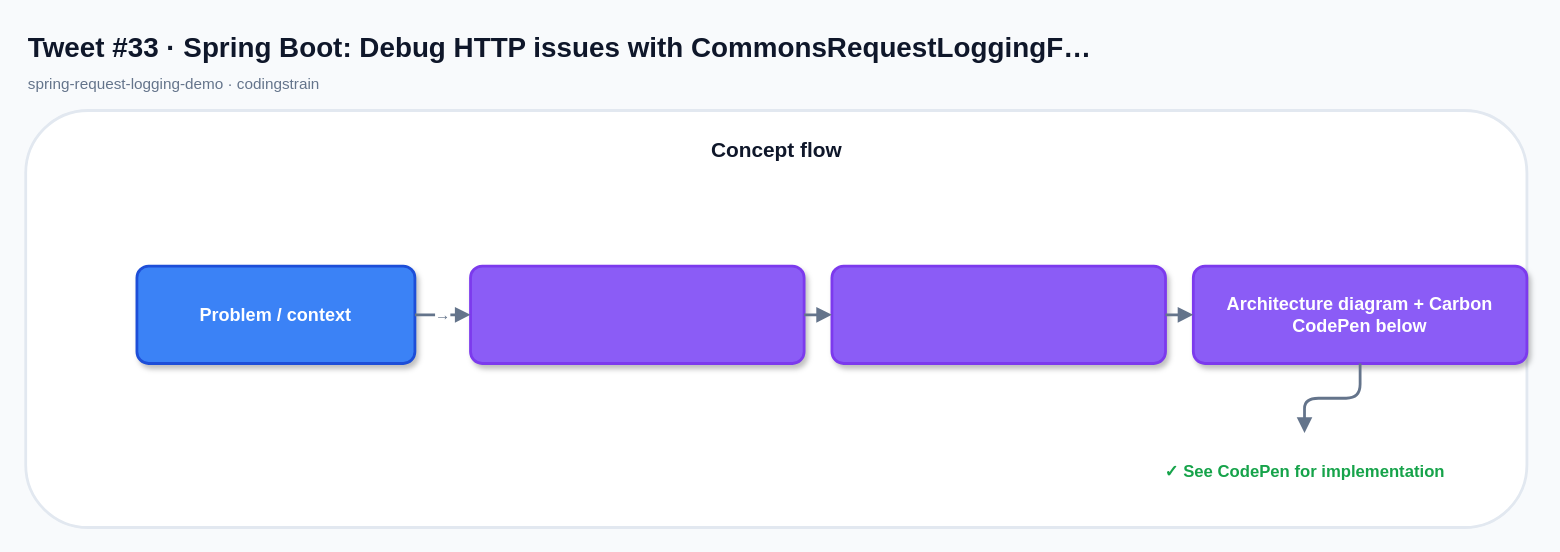
This 1560x552 diagram has some shape labels left out. Each missing label, with the centre of its shape:
"Debug HTTP issues with CommonsRequestLoggingFilter" belongs at point 638,316.
"Runnable sample: `spring-request-logging-demo`" belongs at point 999,316.
